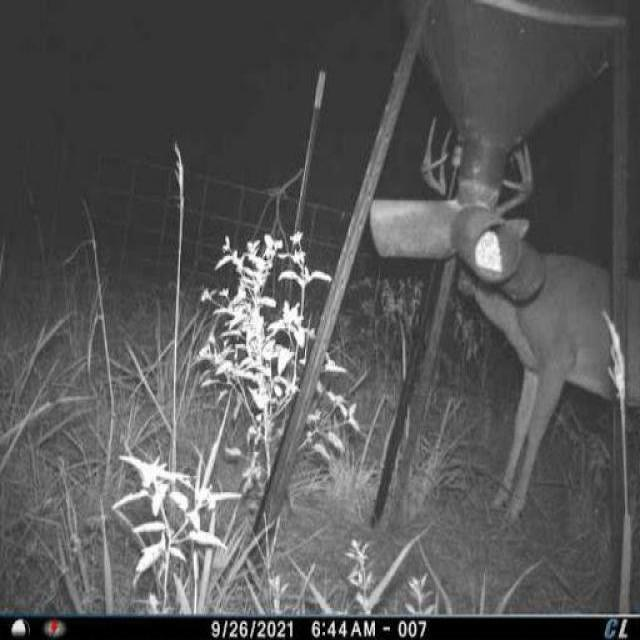deer: (410, 105, 640, 530)
